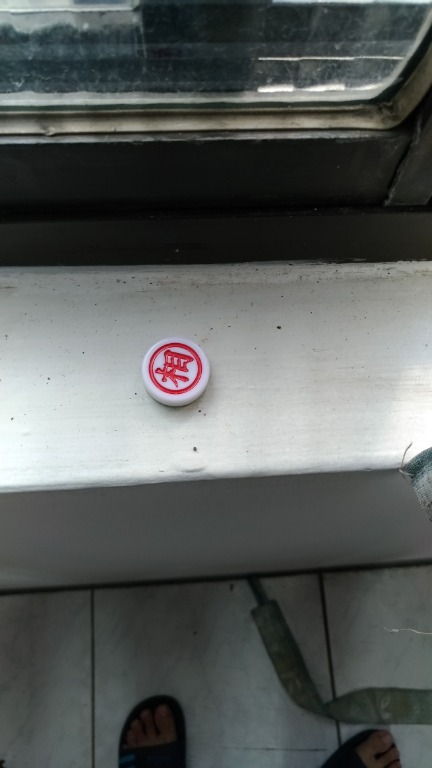r-elephant: (135, 330, 223, 421)
